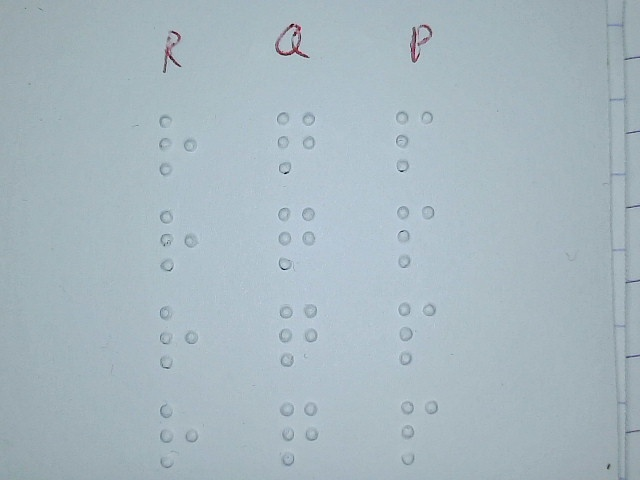P: (398, 397, 441, 466), (392, 108, 435, 173), (394, 202, 437, 267), (396, 300, 439, 365)
Q: (275, 110, 318, 175), (275, 205, 318, 270), (278, 302, 321, 367), (279, 399, 320, 466)
R: (156, 113, 199, 178), (157, 208, 200, 273), (157, 304, 200, 369), (158, 402, 201, 467)
